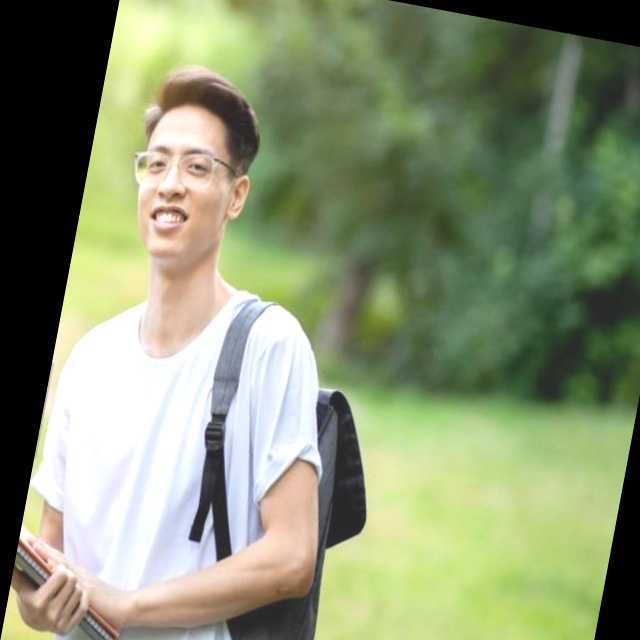Sin_Casco_Mascarrilla: (109, 56, 272, 278)
Sin_Chaleco: (6, 259, 319, 640)
